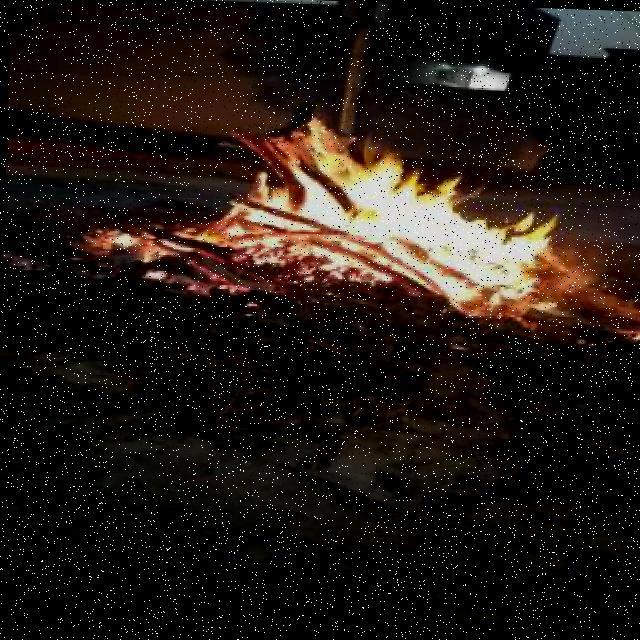Fire: (140, 84, 564, 326)
